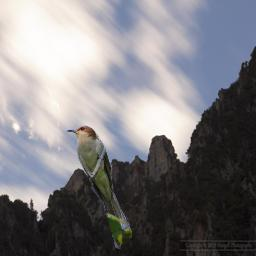Cuckoo: (66, 125, 132, 249)
